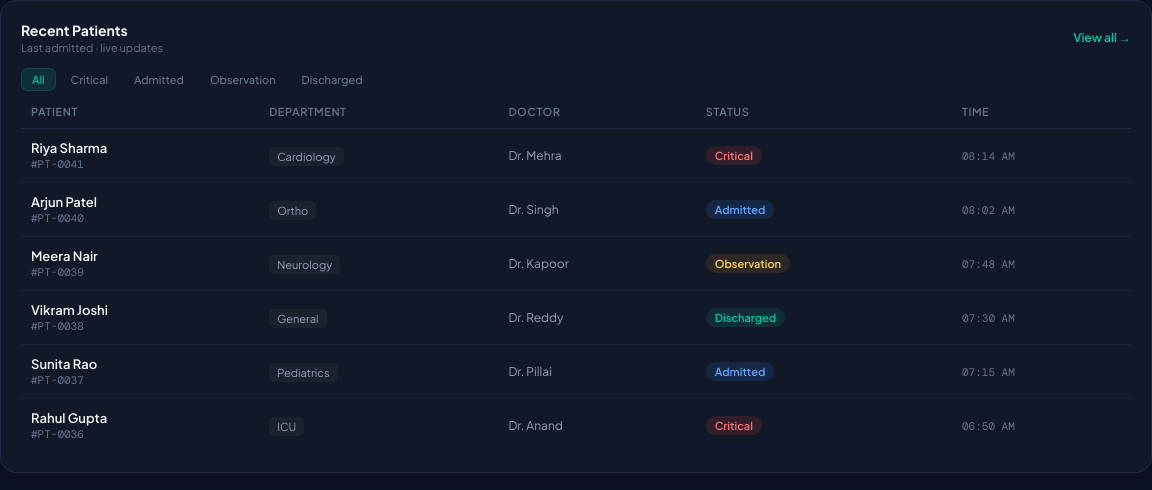
Scenario: PatientsTable › filters patients by Discharged status
What coordinates should you click on to do the following:
click the button "Discharged"
I would click on:
 (332, 80)
Its box is x1=291 y1=68 x2=374 y2=91.
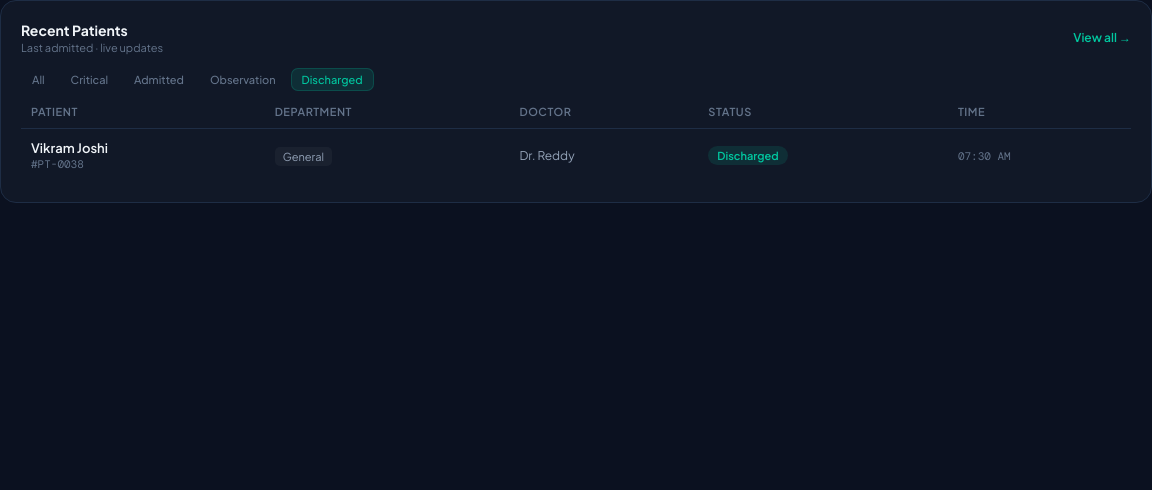
Expected: the number of rows with test id "patient-row" is 1, x1=21 y1=128 x2=1131 y2=182
